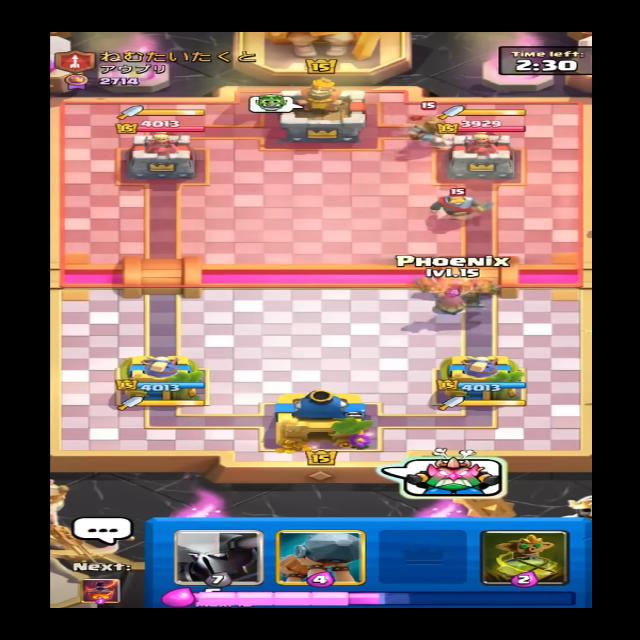knight: (434, 186, 492, 221)
prince: (410, 104, 467, 150)
